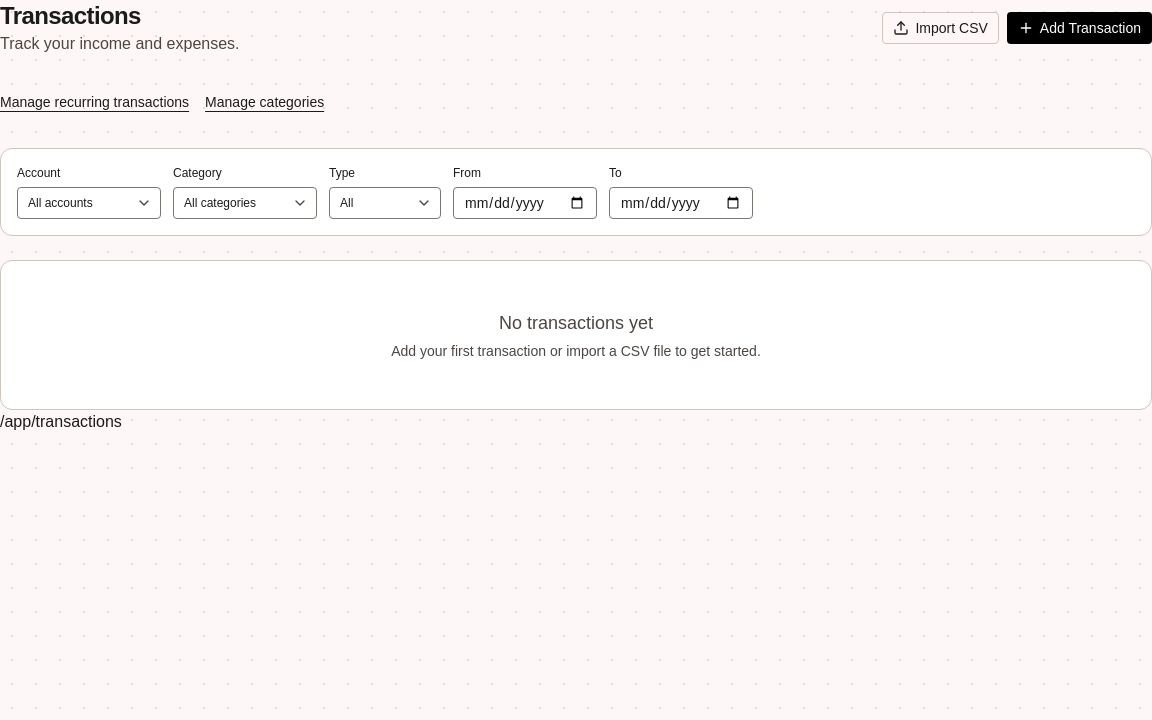
Test case: Transactions Page › opens the CSV import dialog
Check: the heading "Transactions" is shown, box [0,2,141,29]
Click the button "Import CSV": (941, 28) [882,12,999,44]
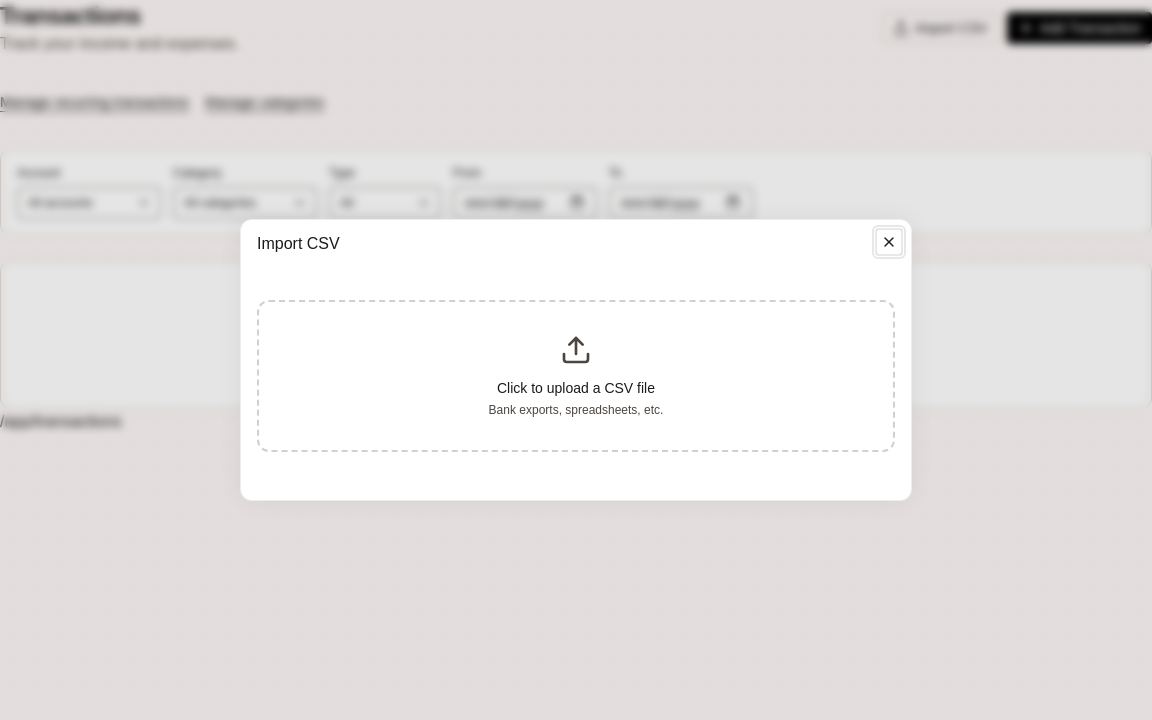
Check: the text "Click to upload a CSV file" is shown, box [489,378,663,398]
